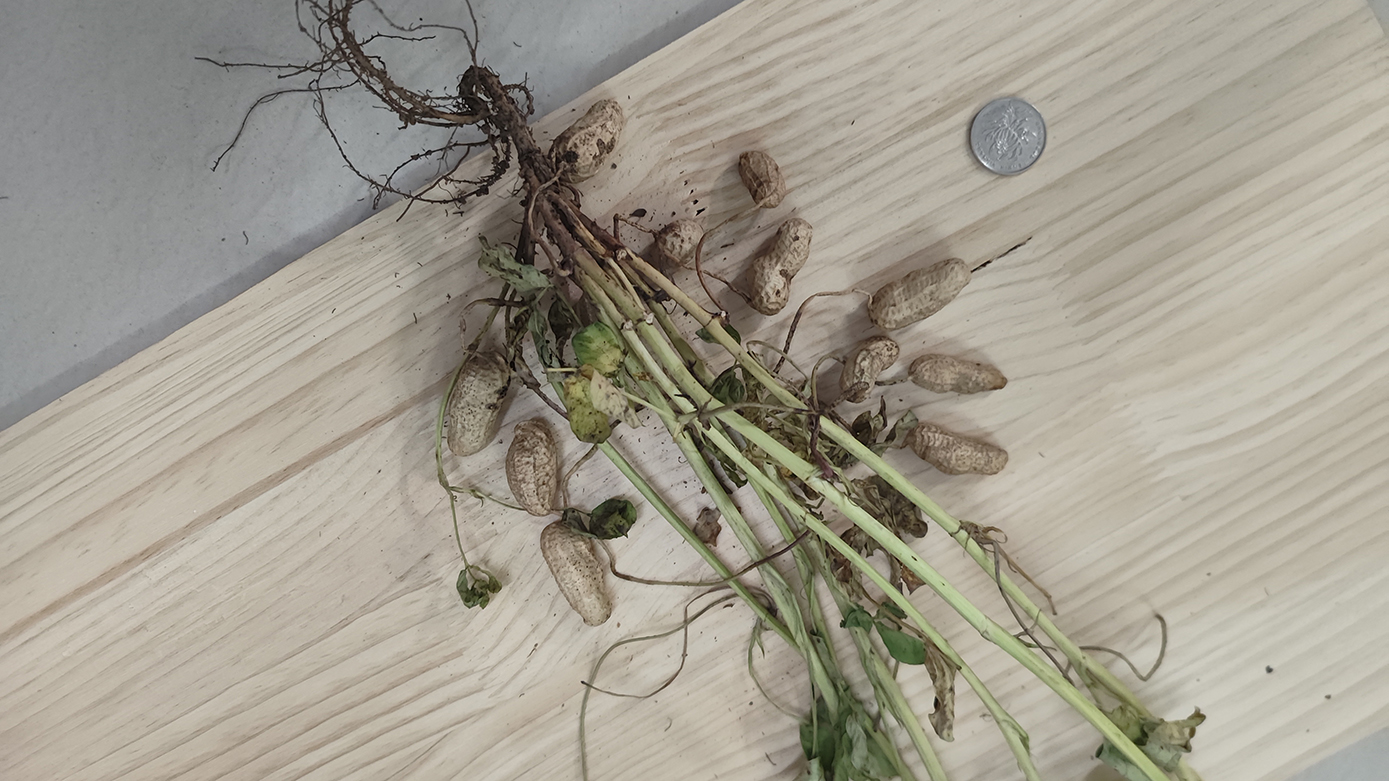h: (865, 257, 970, 331), (537, 521, 610, 624), (445, 352, 510, 456), (747, 220, 814, 315), (551, 98, 625, 181), (907, 423, 1011, 478), (505, 415, 560, 518), (911, 351, 1008, 395), (839, 338, 899, 403), (737, 147, 787, 209), (656, 220, 702, 265)
